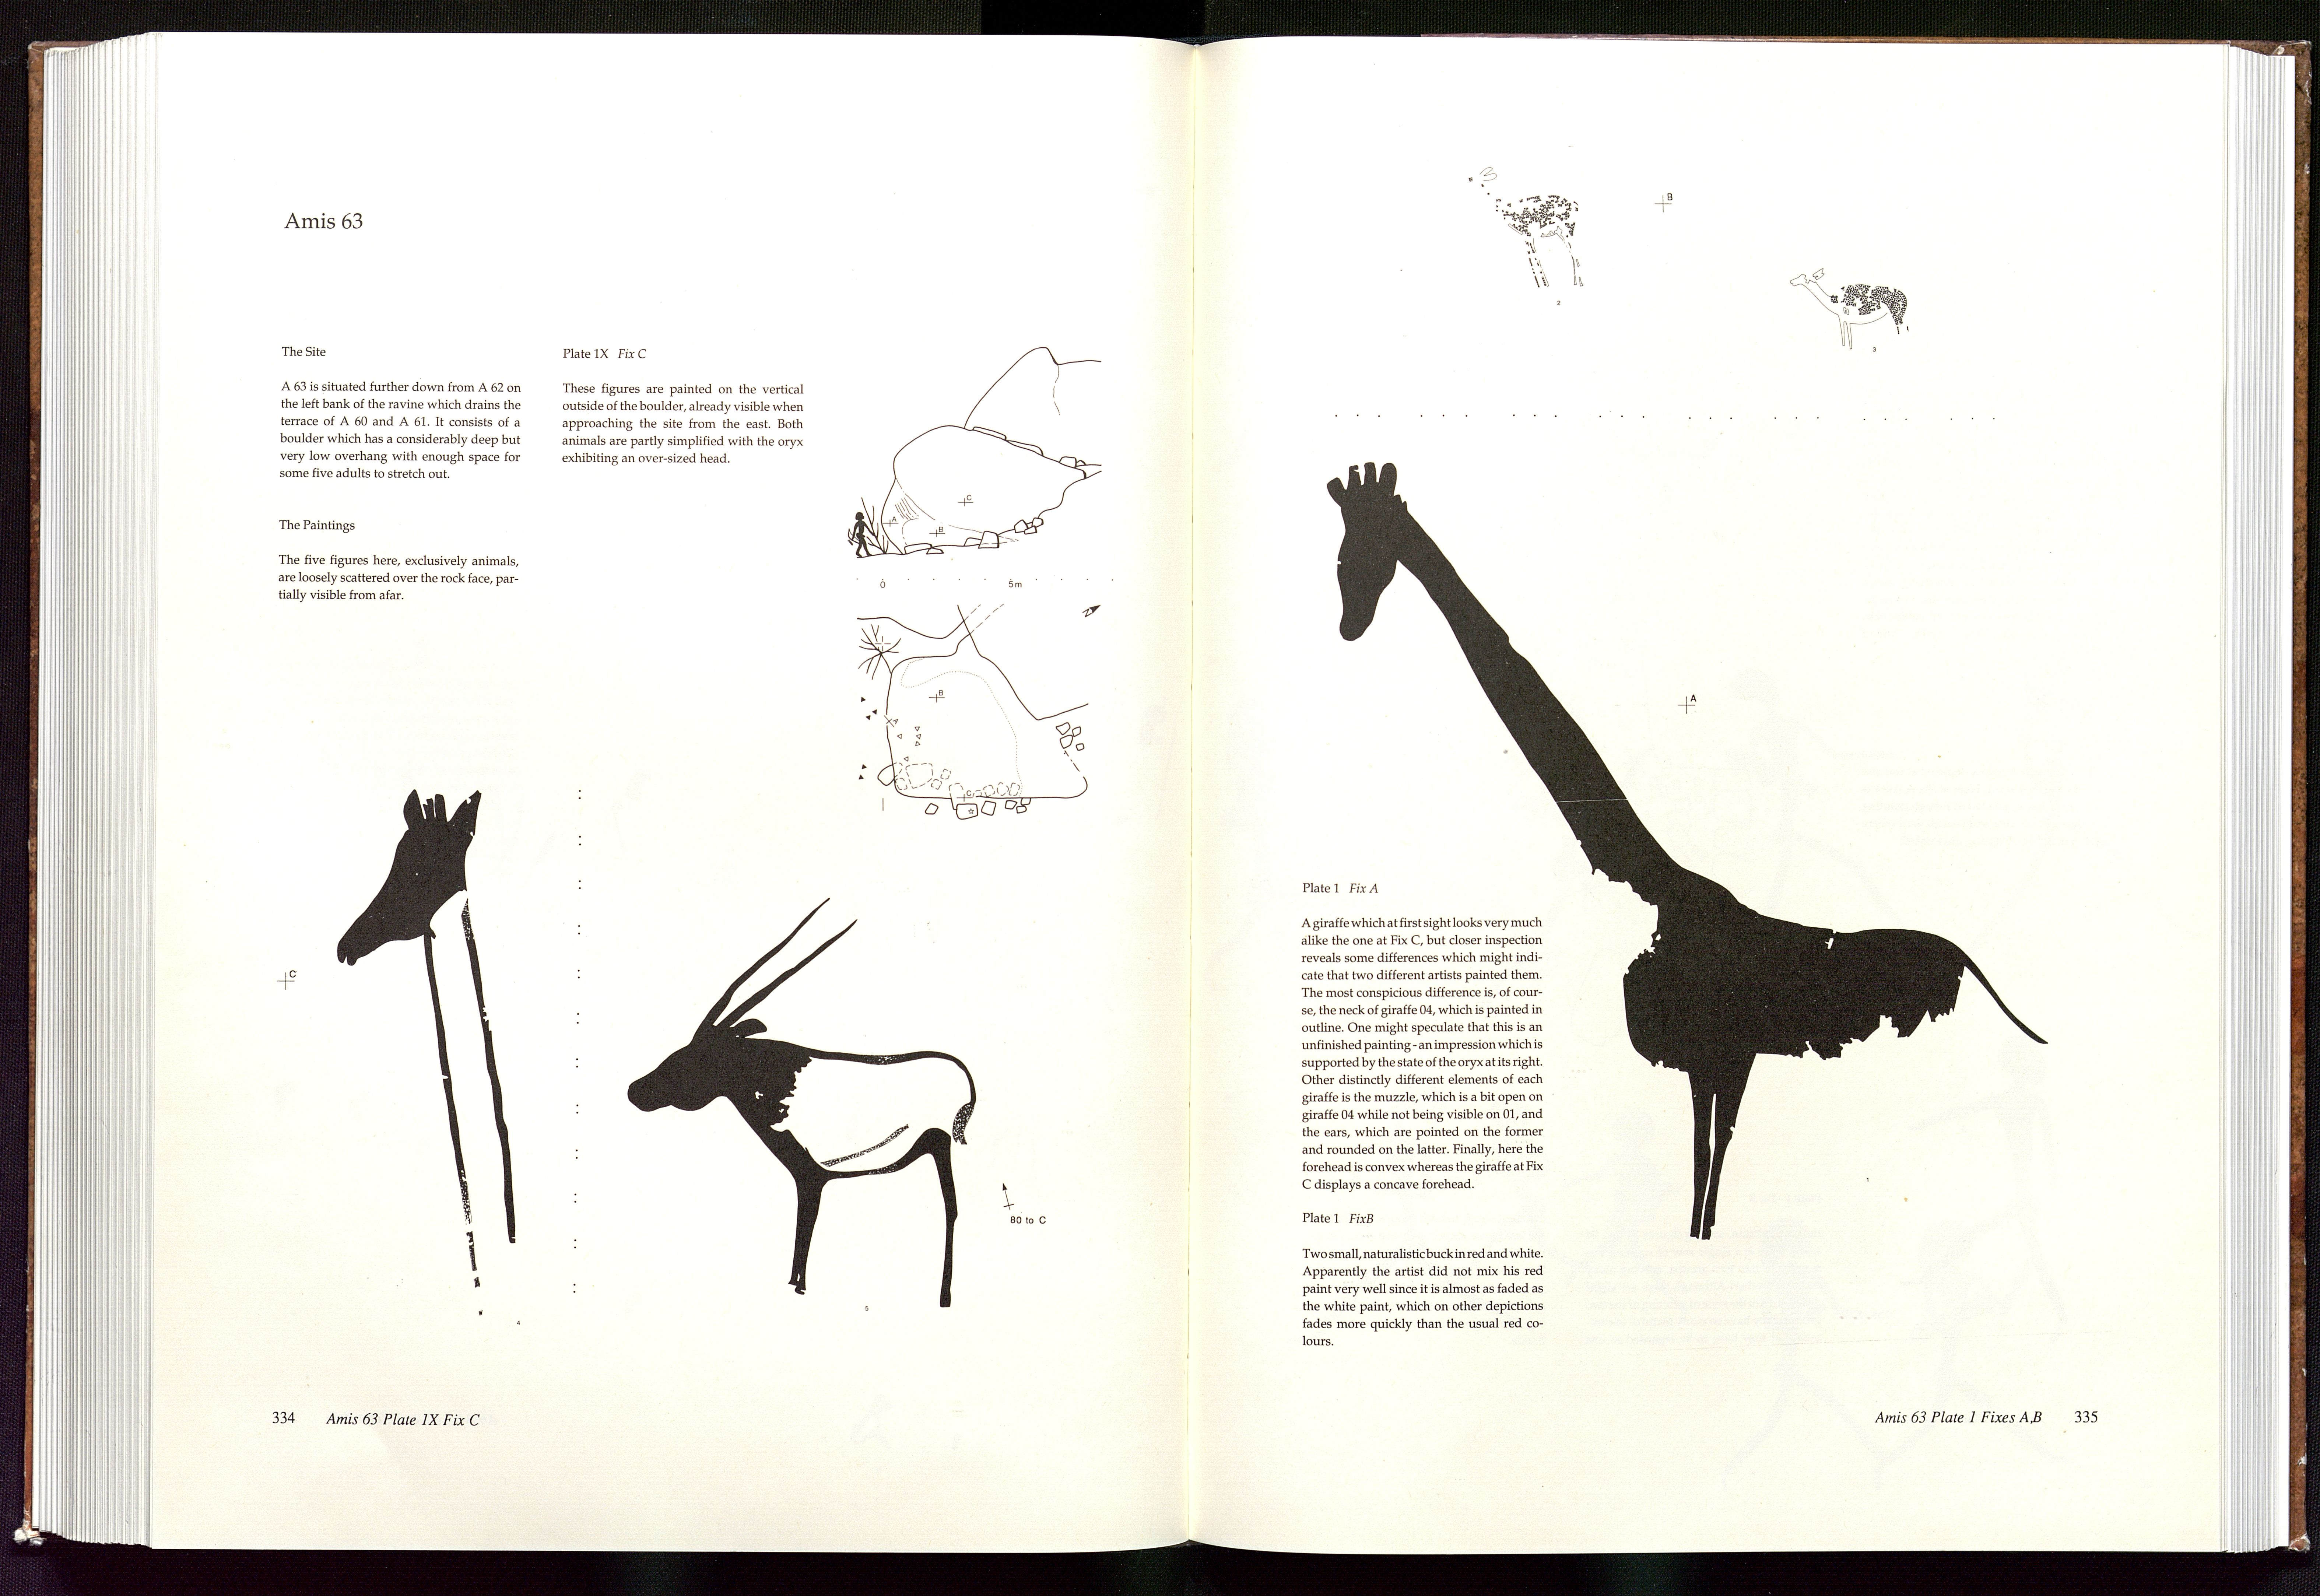animal: (1313, 446, 2071, 1247), (621, 887, 982, 1310), (319, 767, 543, 1317), (1458, 155, 1594, 298), (1782, 252, 1922, 363)
